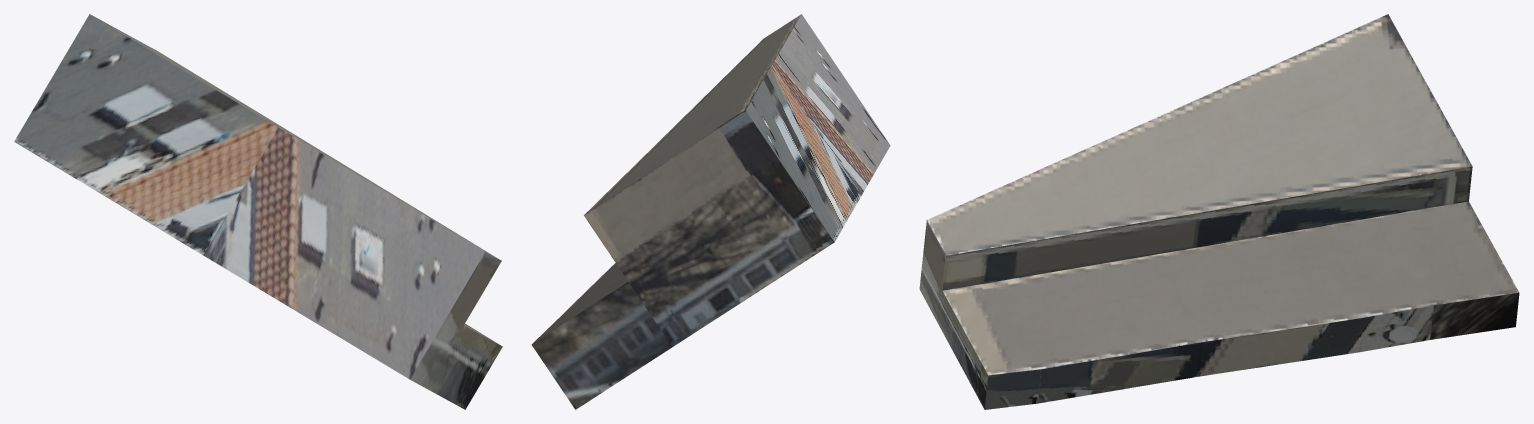
3 views of the same model, side by side, from view 1: azimuth 30°, elevation 25°; view 2: azimuth 150°, elevation 25°; view 3: azimuth 270°, elevation 25° (orthographic). The views are drawn at different scales.
Visible parts, largest first — view 1: BAG_0599100010057617 (×3); view 2: BAG_0599100010057617 (×3); view 3: BAG_0599100010057617 (×6).
Part boxes in pixels (box(x1,y1,x2,y2)): BAG_0599100010057617 (×3): box(14, 14, 502, 409); BAG_0599100010057617 (×3): box(531, 14, 890, 409); BAG_0599100010057617 (×6): box(919, 14, 1519, 409).
Bounding box in the file's own units: 11.88 × 11.29 × 20.09.
1 material, 1 textured.
